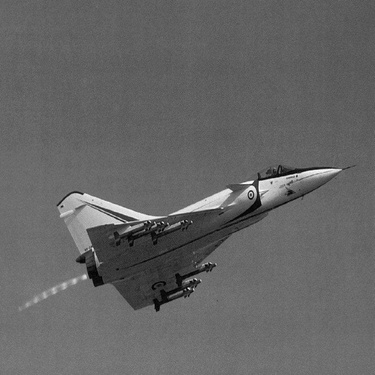airplane: (49, 152, 352, 314)
